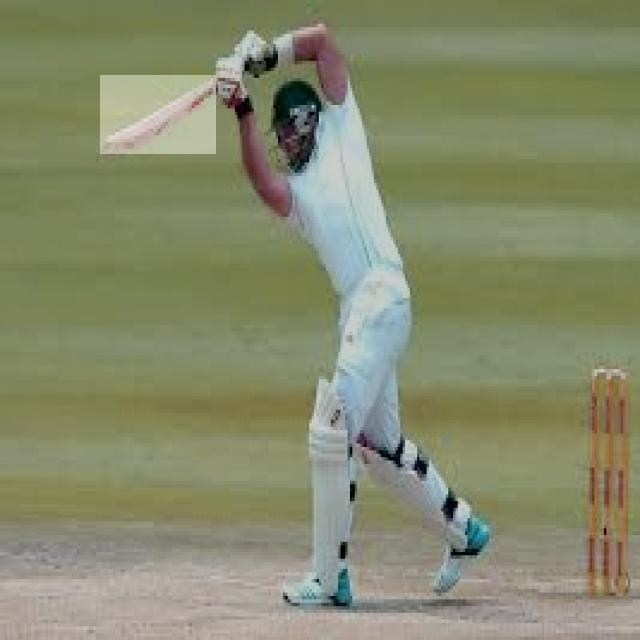bat: (99, 76, 216, 157)
toe: (100, 138, 134, 155)
